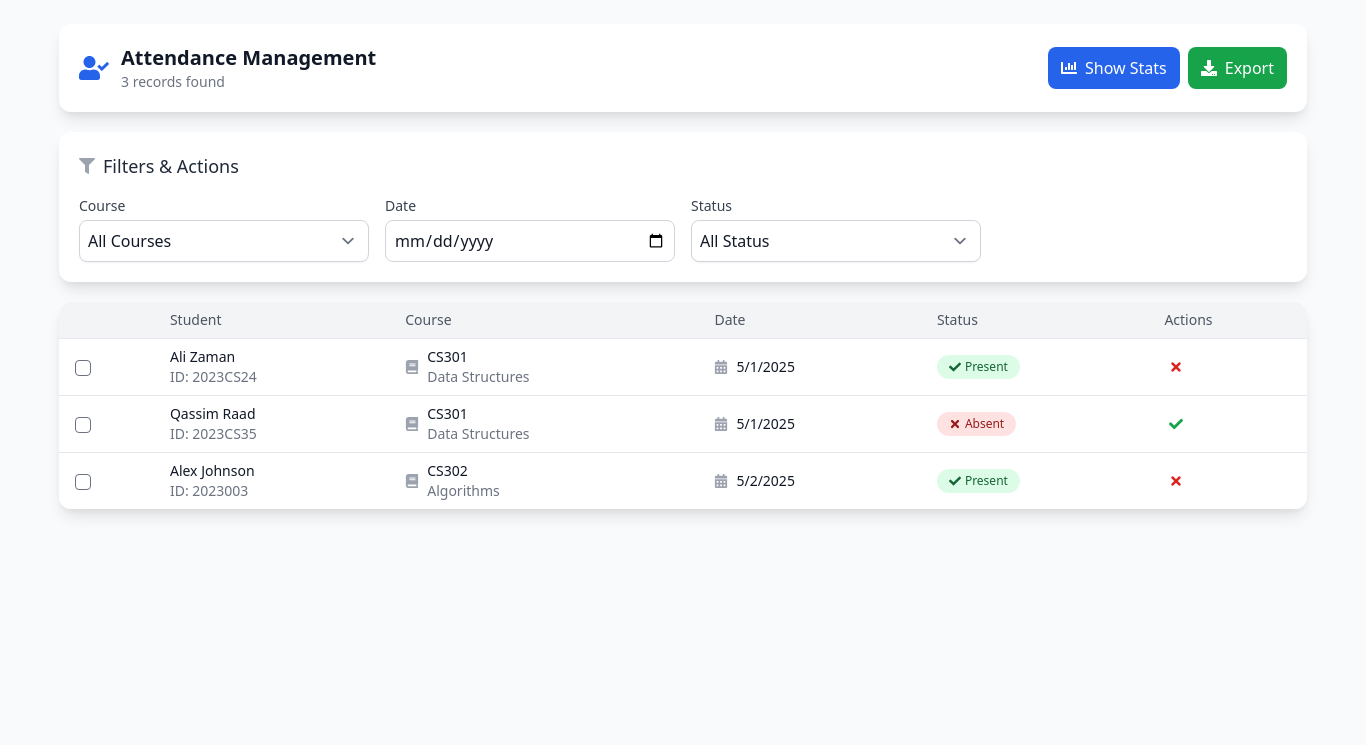
Test: AttendanceList › toggles the stats panel
Click the button "Show Stats" at (1114, 68), box [1048,47,1180,89]
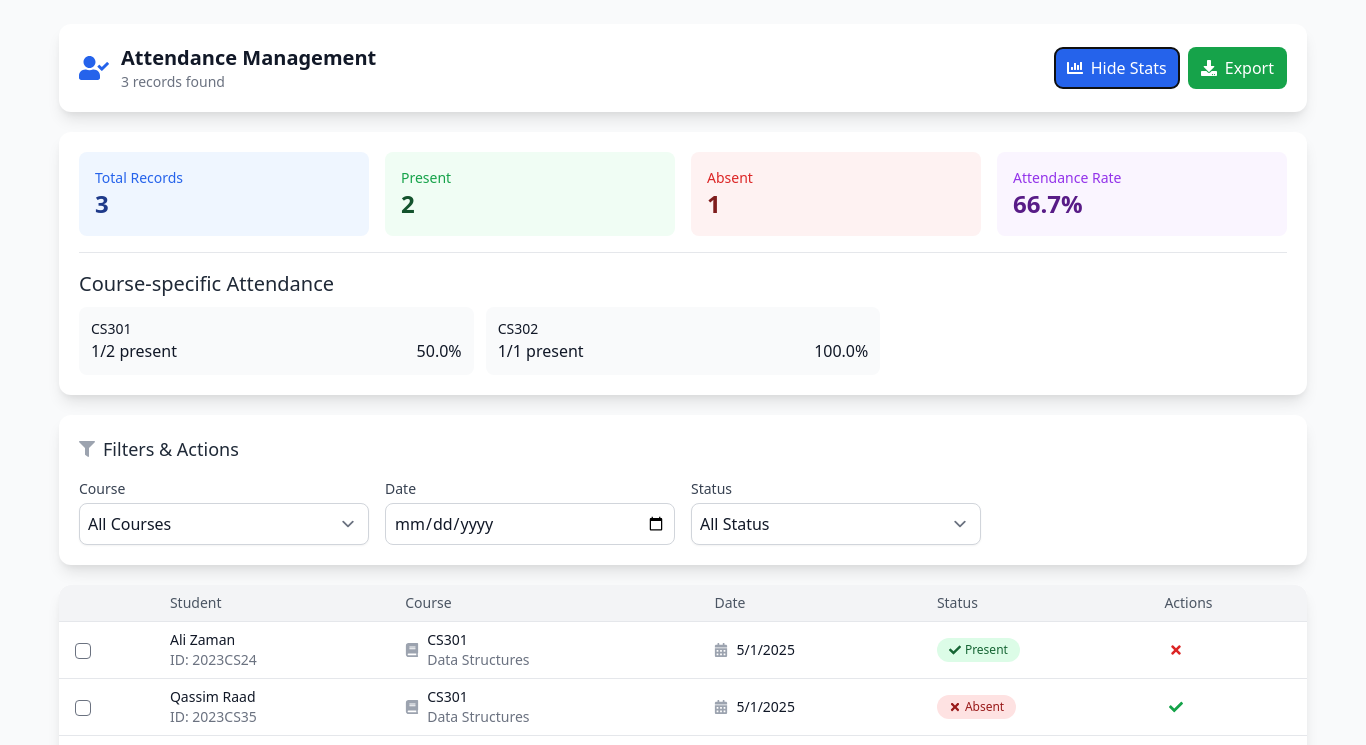
Check: the text "Attendance Rate" is shown, box [1013,168,1122,187]
Click the button "Hide Stats" at (1117, 68), box [1054,47,1180,89]
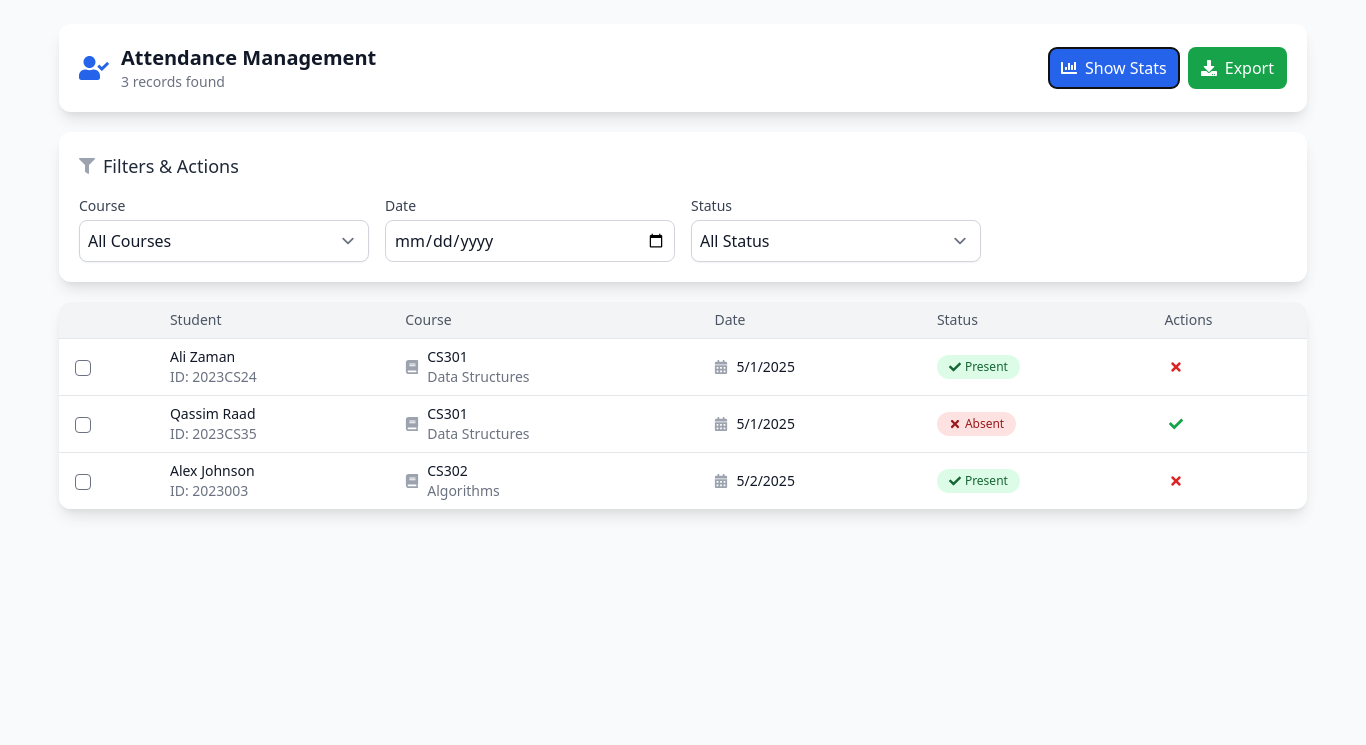
Check: the text "Attendance Rate" is gone
